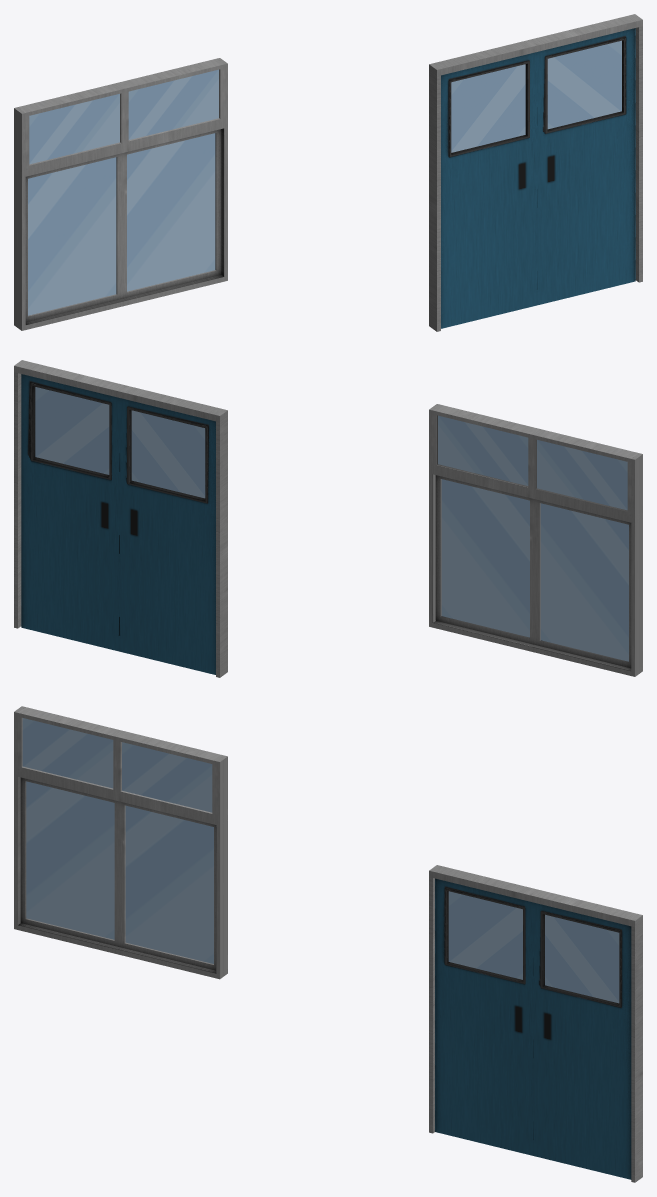
Rendered from prop_sch_canteen_door.fbx.
3 views of the same model, one above another, from view 1: azimuth 30°, elevation 25°; view 2: azimuth 150°, elevation 25°; view 3: azimuth 330°, elevation 25° (orthographic).
Parts seen in each view (by area): view 1: prop_sch_windows_glass, prop_sch_door2, prop_sch_door2_x, prop_sch_windows, prop_sch_door2_x_glass, prop_sch_door2_x_glass_2; view 2: prop_sch_windows_glass, prop_sch_door2, prop_sch_door2_x, prop_sch_windows, prop_sch_door2_x_glass_2, prop_sch_door2_x_glass; view 3: prop_sch_windows_glass, prop_sch_door2, prop_sch_door2_x, prop_sch_windows, prop_sch_door2_x_glass, prop_sch_door2_x_glass_2.
Part boxes in pixels (x1=…): prop_sch_windows_glass: x1=28, y1=69, x2=218, y2=315; prop_sch_door2: x1=429, y1=14, x2=642, y2=331; prop_sch_door2_x: x1=441, y1=52, x2=537, y2=328; prop_sch_windows: x1=14, y1=58, x2=227, y2=330; prop_sch_door2_x_glass: x1=451, y1=64, x2=525, y2=152; prop_sch_door2_x_glass_2: x1=547, y1=40, x2=621, y2=129; prop_sch_windows_glass: x1=438, y1=415, x2=628, y2=661; prop_sch_door2: x1=14, y1=360, x2=227, y2=677; prop_sch_door2_x: x1=119, y1=398, x2=215, y2=674; prop_sch_windows: x1=429, y1=404, x2=642, y2=676; prop_sch_door2_x_glass_2: x1=35, y1=387, x2=109, y2=474; prop_sch_door2_x_glass: x1=131, y1=410, x2=205, y2=498; prop_sch_windows_glass: x1=22, y1=718, x2=213, y2=963; prop_sch_door2: x1=429, y1=865, x2=642, y2=1182; prop_sch_door2_x: x1=435, y1=878, x2=533, y2=1155; prop_sch_windows: x1=14, y1=706, x2=227, y2=979; prop_sch_door2_x_glass: x1=448, y1=891, x2=522, y2=979; prop_sch_door2_x_glass_2: x1=545, y1=914, x2=619, y2=1003.
Size of the model in its own units: 509 by 250 by 11.2.
